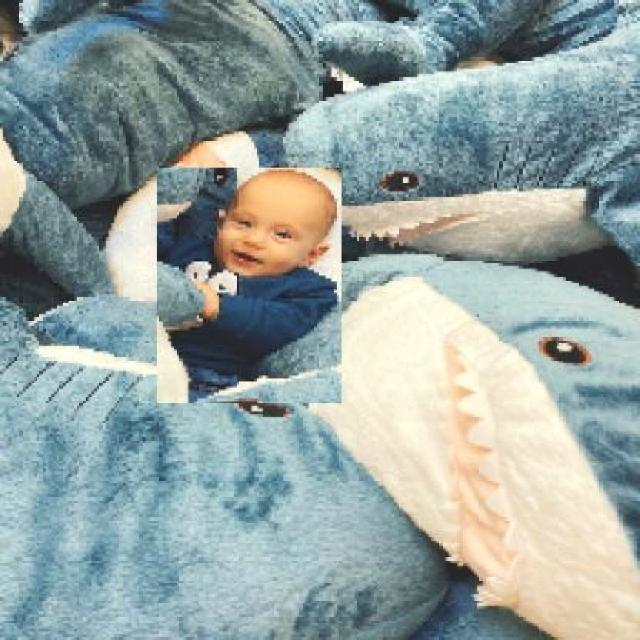child: (156, 168, 342, 406)
